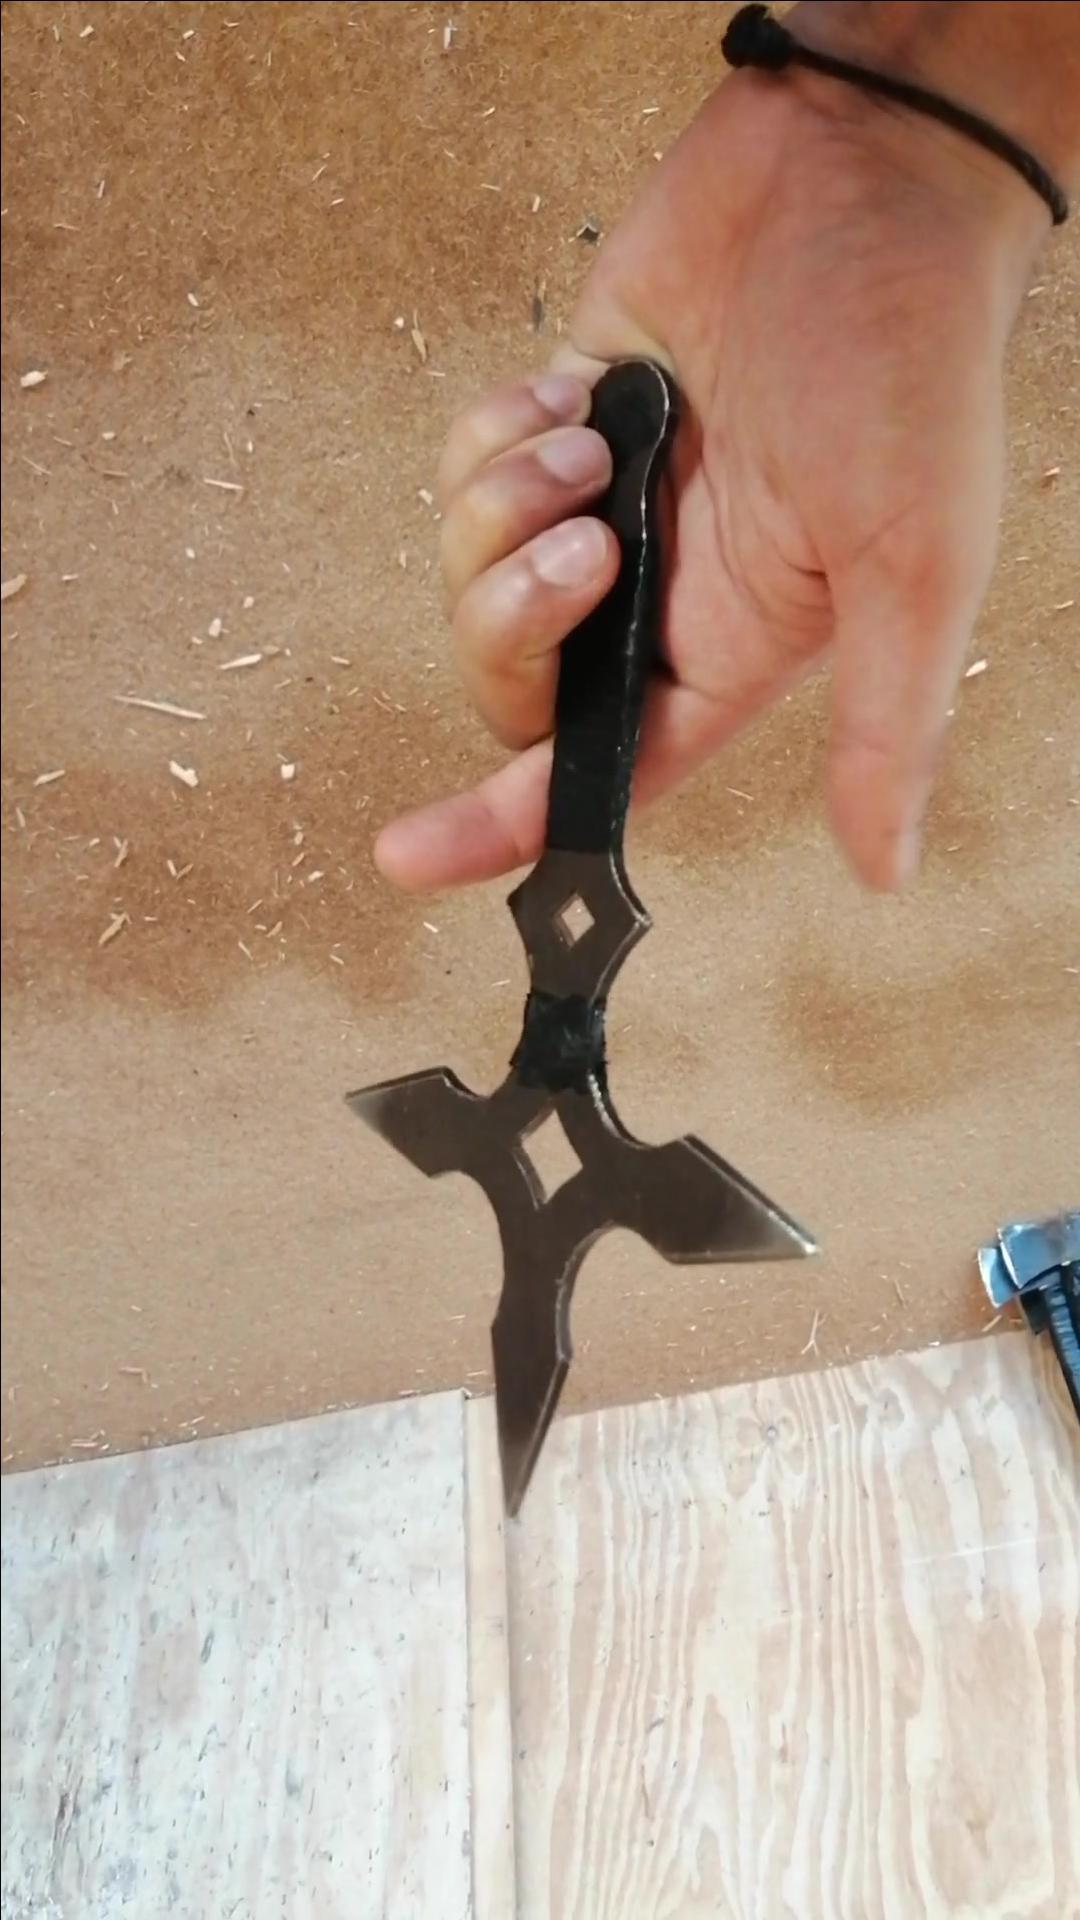Hand Axe: (340, 353, 818, 1520), (989, 1213, 1079, 1286)
